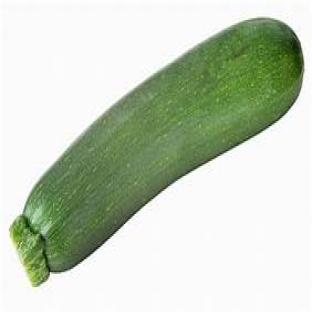Zucchini: (10, 19, 303, 285)
